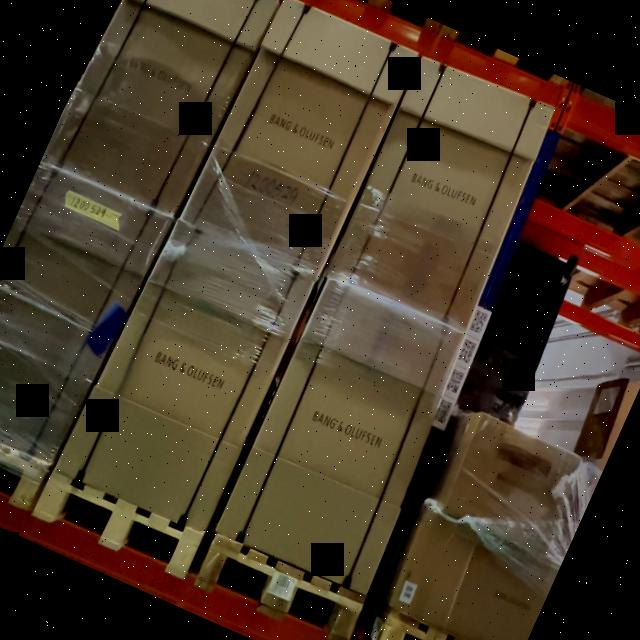box: (59, 225, 312, 535), (220, 282, 468, 589), (181, 0, 420, 281), (331, 53, 562, 329), (41, 0, 285, 222), (0, 165, 169, 467), (453, 243, 575, 432), (440, 416, 590, 558), (385, 510, 483, 630)
